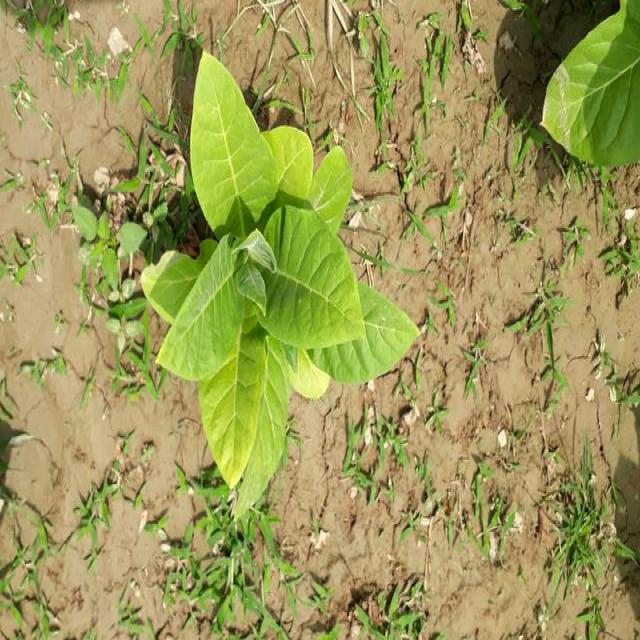crop: (141, 39, 421, 515)
